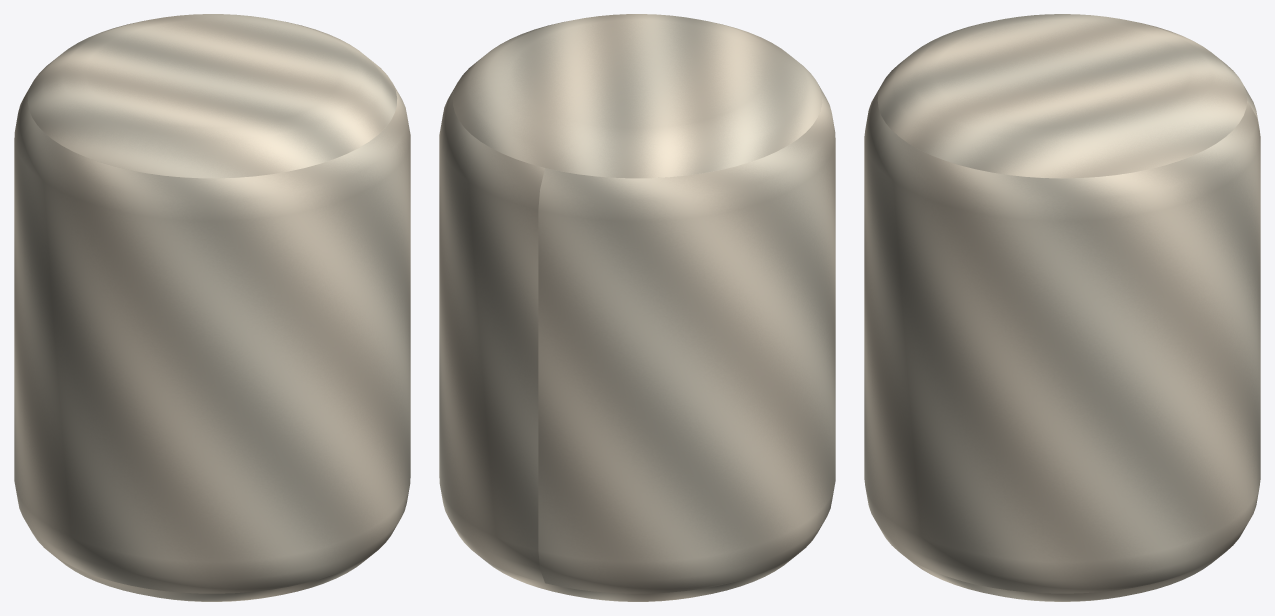
The model's file is PorcelainVase.glb.
3 renders of one model, left to right at view 1: azimuth 30°, elevation 25°; view 2: azimuth 150°, elevation 25°; view 3: azimuth 270°, elevation 25°, orthographic.
Visible parts, largest first — view 1: Cylinder; view 2: Cylinder; view 3: Cylinder.
Part boxes in pixels (x1,y1,x2,y2): Cylinder: (14,14,410,601); Cylinder: (439,14,835,601); Cylinder: (864,14,1260,601).
Bounding box in the file's own units: 0.96 × 1.25 × 0.96.
Materials: 1 (1 with a texture image).
